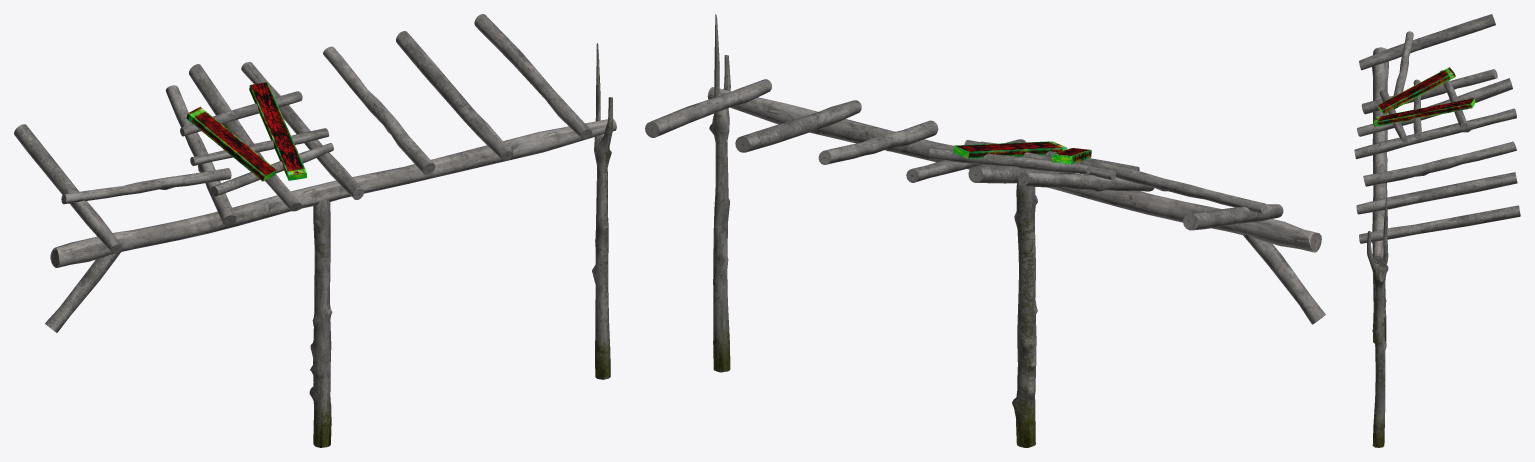
Rendered from SM_SupportModule_3.fbx.
3 renders of one model, left to right at view 1: azimuth 30°, elevation 25°; view 2: azimuth 150°, elevation 25°; view 3: azimuth 270°, elevation 25°, orthographic. The views are drawn at different scales.
Parts seen in each view (by area): view 1: SM_SupportModule_3_LOD0; view 2: SM_SupportModule_3_LOD0; view 3: SM_SupportModule_3_LOD0.
Part boxes in pixels (x1,y1,x2,y2): SM_SupportModule_3_LOD0: [14, 14, 616, 447]; SM_SupportModule_3_LOD0: [645, 14, 1325, 447]; SM_SupportModule_3_LOD0: [1354, 14, 1520, 447].
Size of the model in its own units: 566 by 191 by 316.
